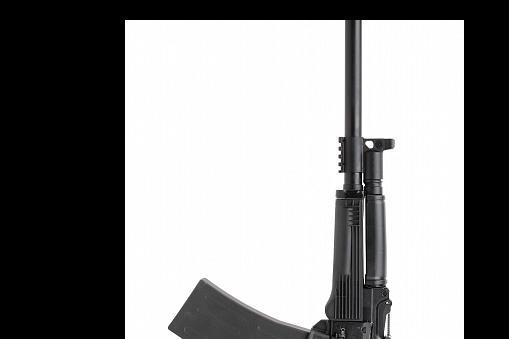larga: (167, 21, 396, 339)
